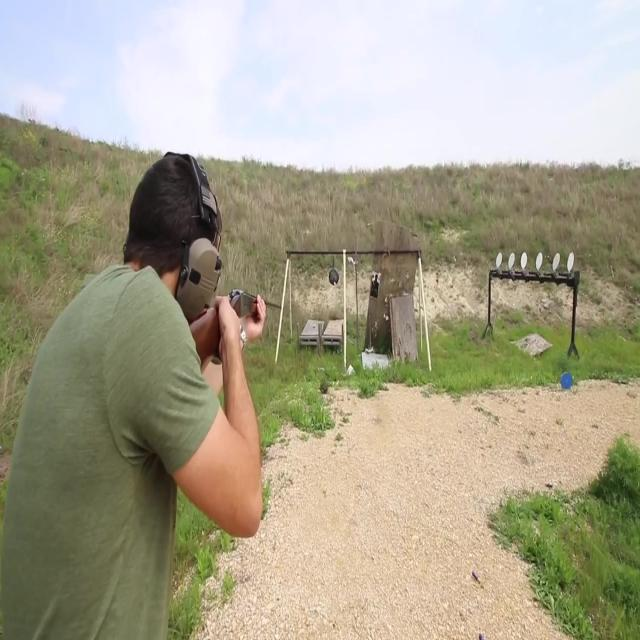Weapon: (166, 285, 324, 446)
